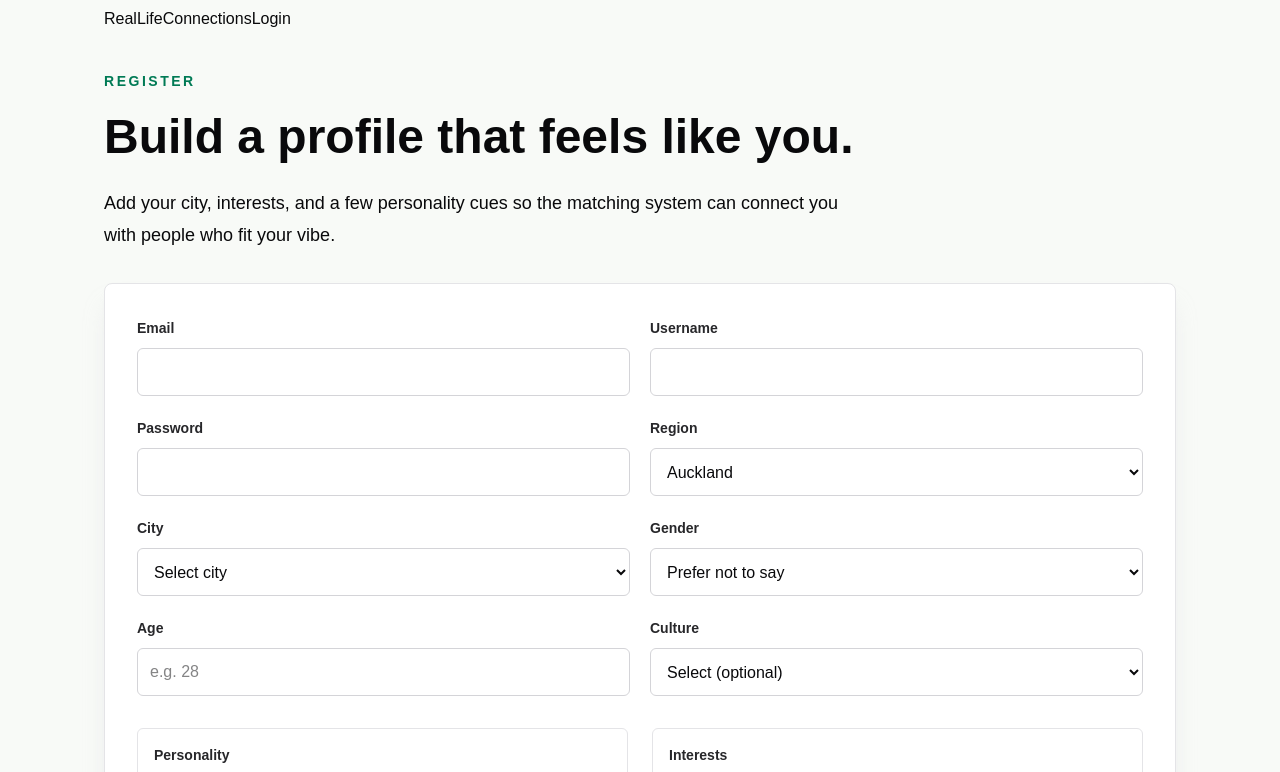
Test: Register integration › submits registration and redirects to profile
Type "sam@example.com" into the field labelled "Email" at (384,372), box [137,348,630,396]
Type "Sam" into the field labelled "Username" at (896,372), box [650,348,1143,396]
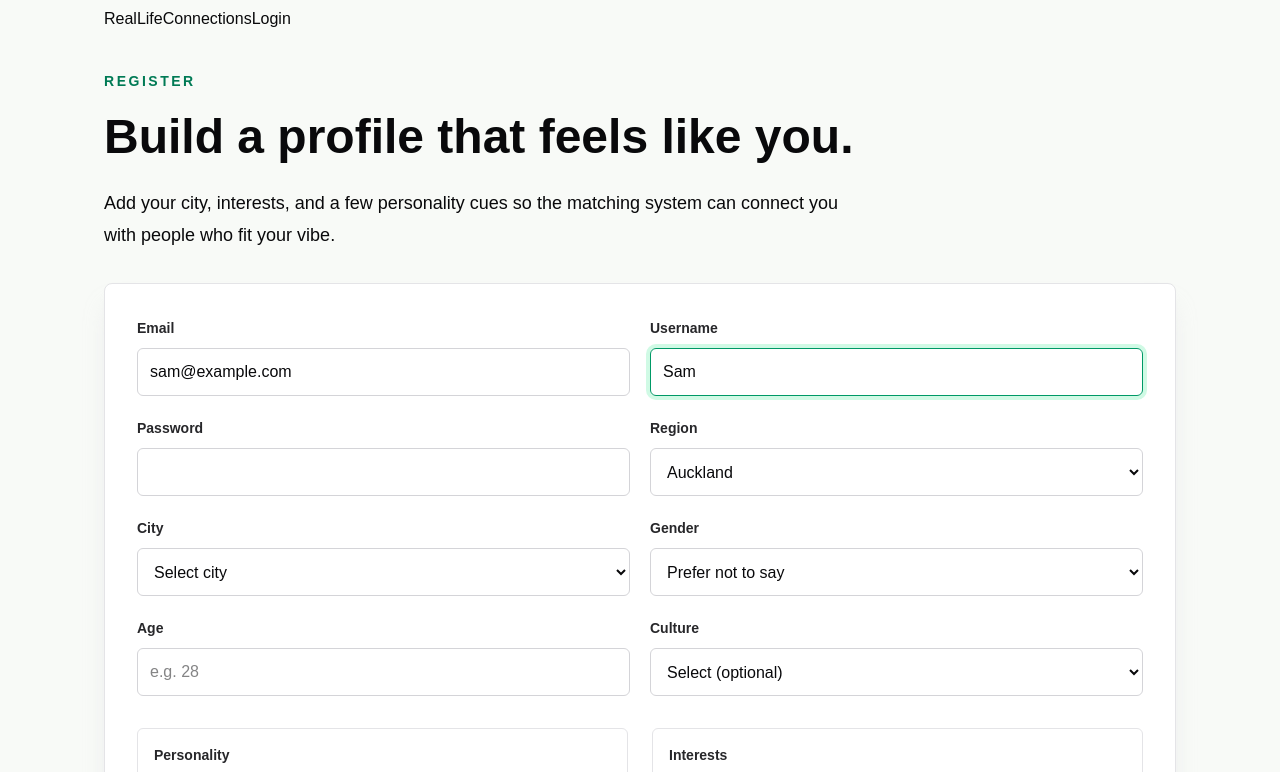
Type "Password123!" into the password field labelled "Password" at (384,472), box [137,448,630,496]
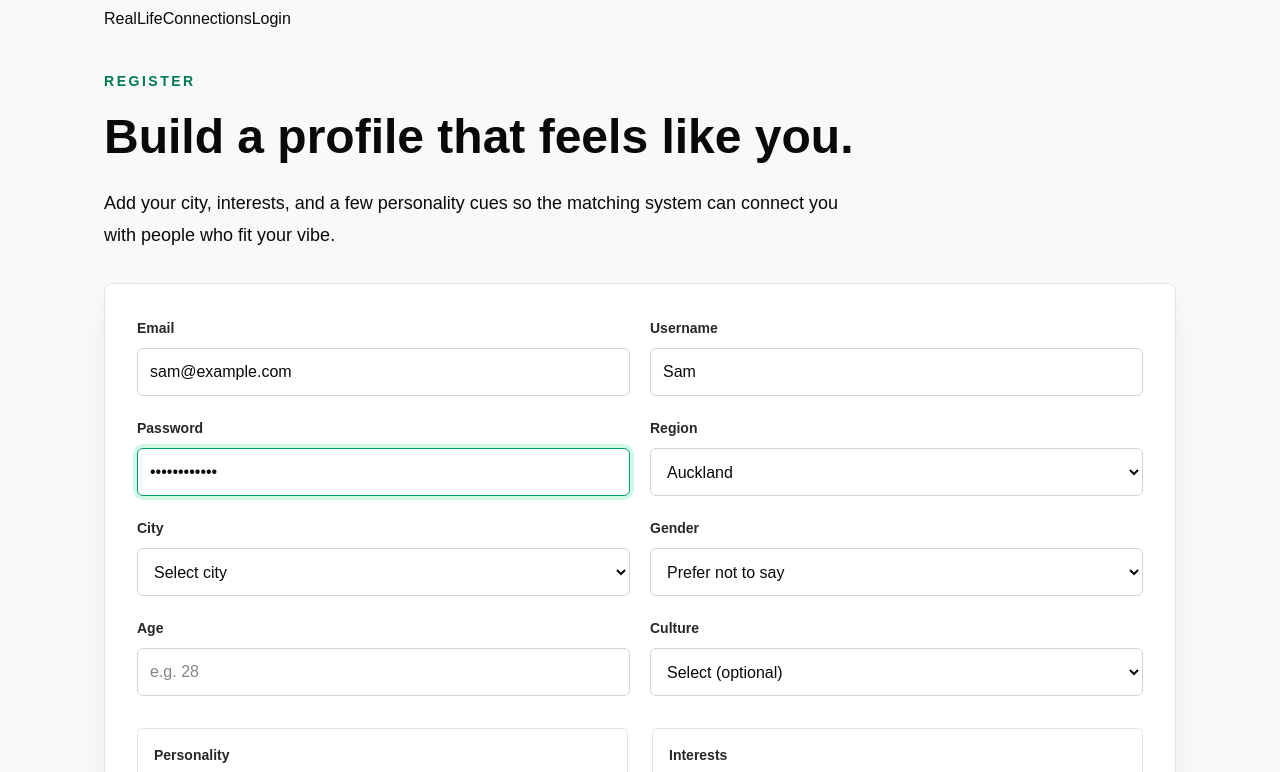
Select "Auckland" in the dropdown labelled "Region" at (896,472), box [650,448,1143,496]
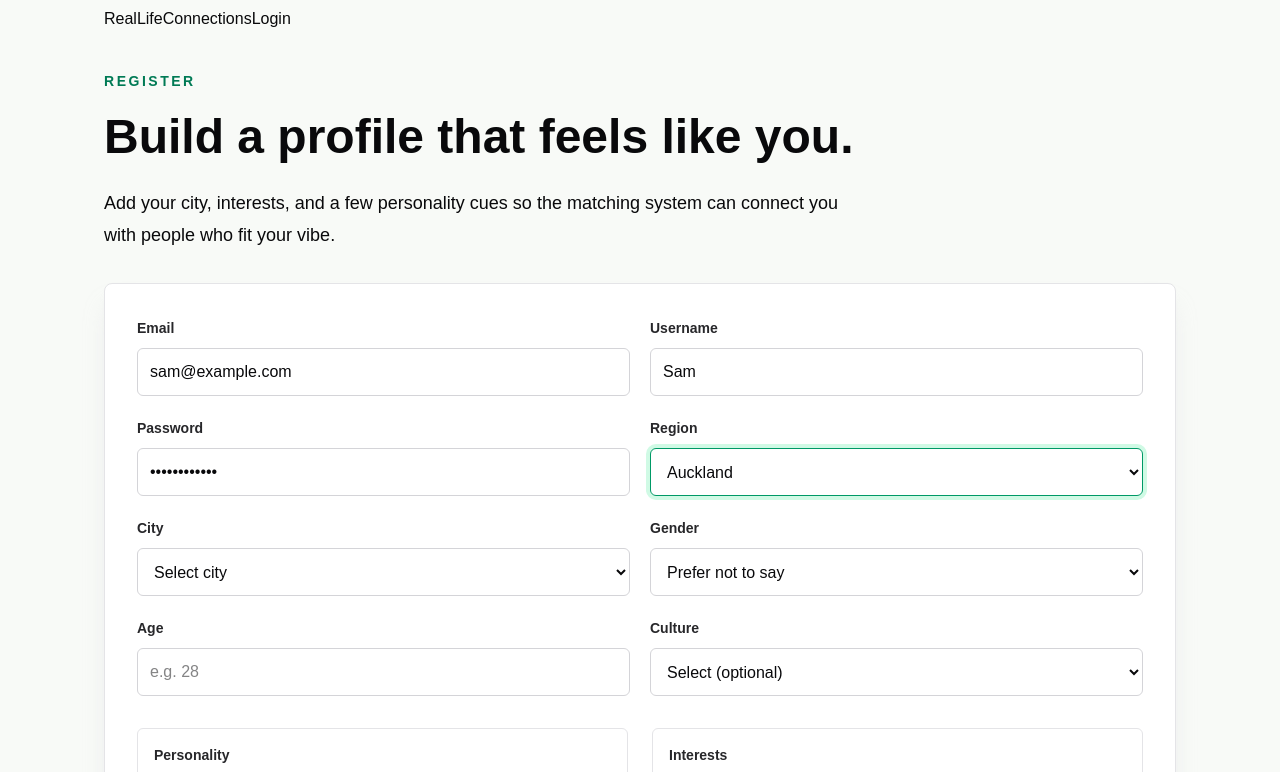
Select "Auckland City" in the dropdown labelled "City" at (384,572), box [137,548,630,596]
(page scrolled)
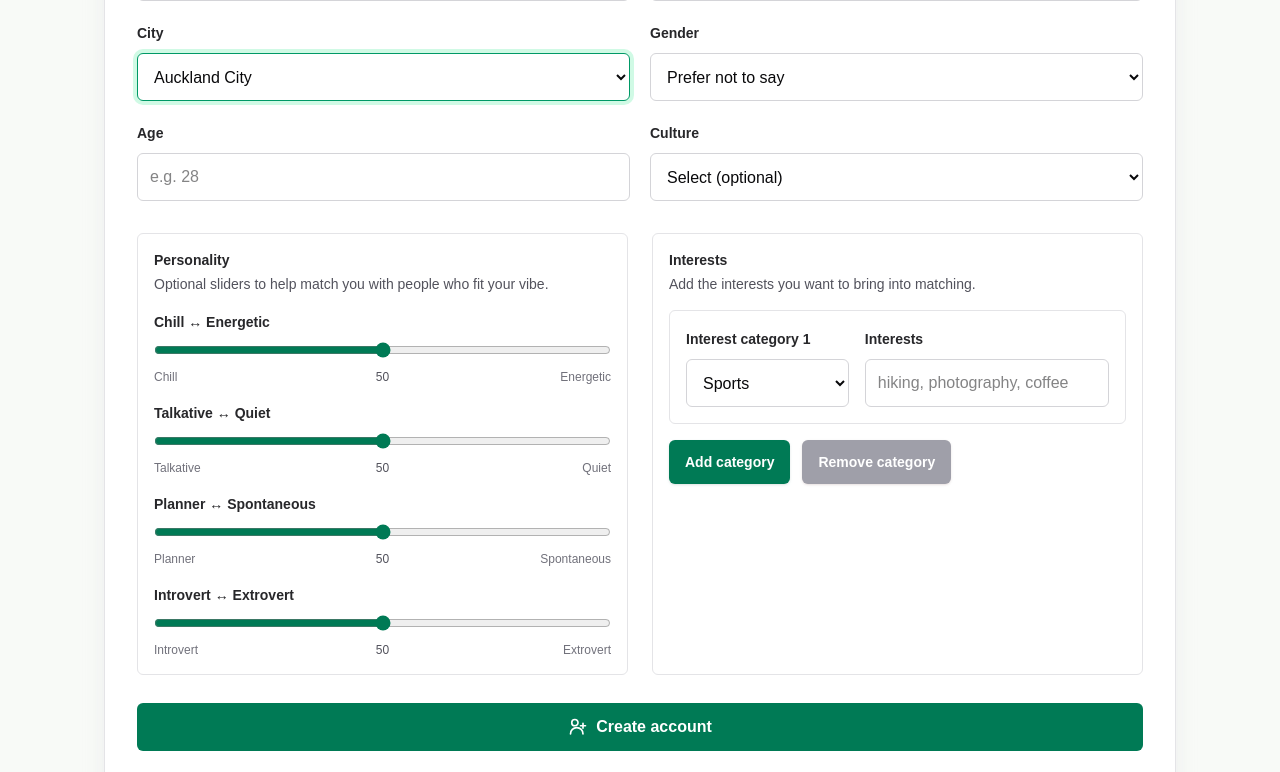
Type "hiking" into the field labelled "Interests" at (987,383), box [865,359,1109,407]
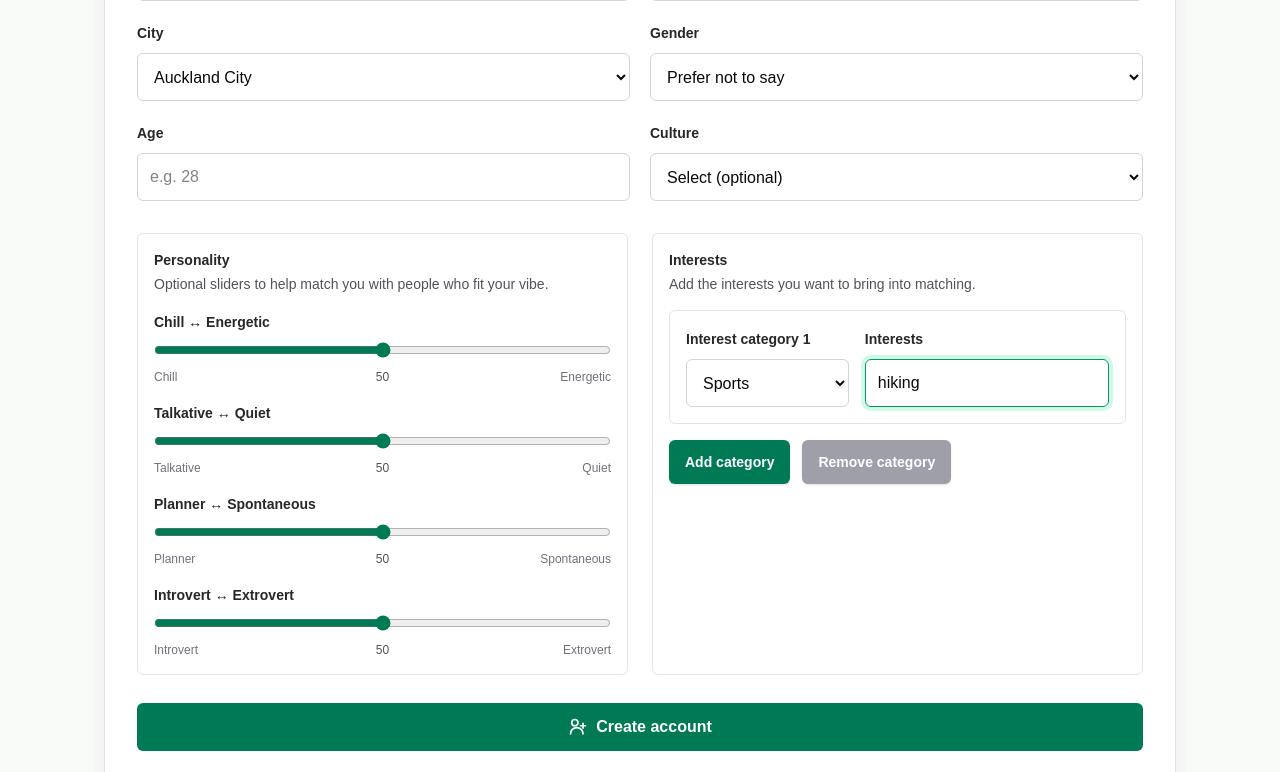
Click the button "Create account" at (640,727), box [137,703,1143,751]
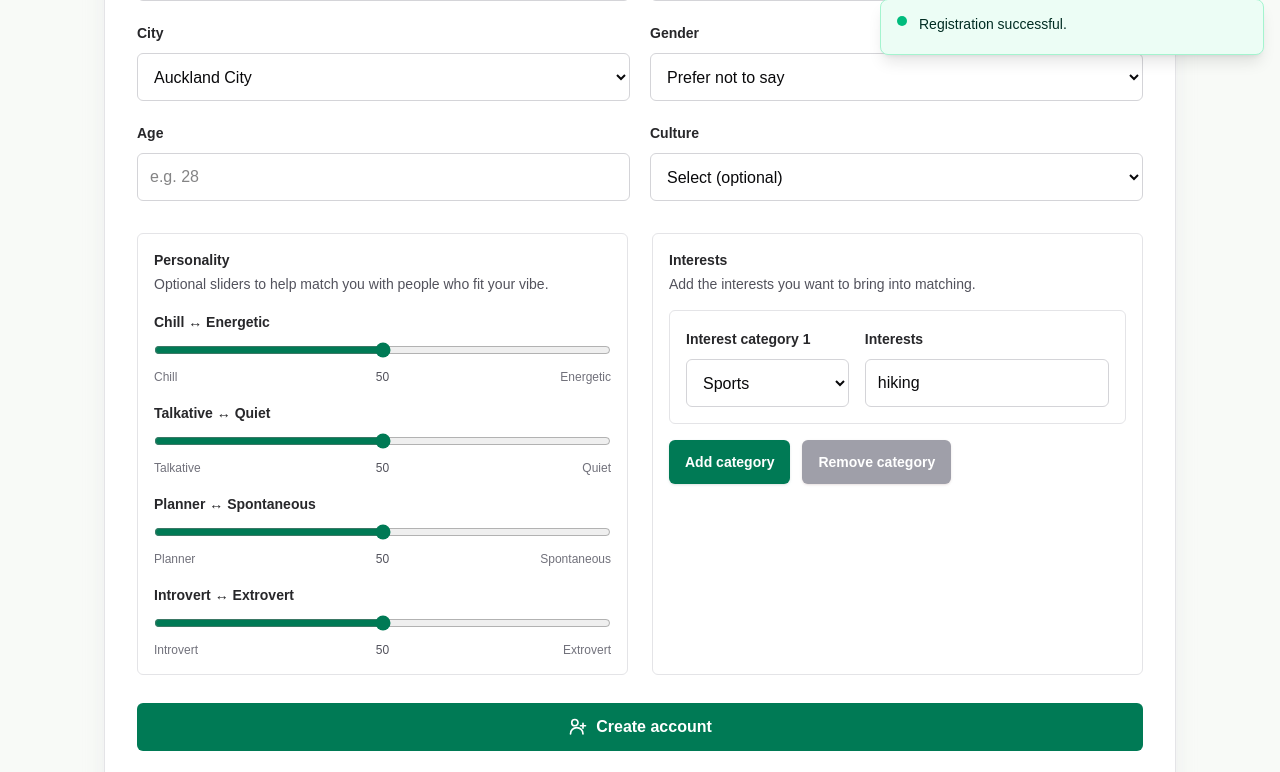
Expected: the text "Registration successful." is shown, [919,12,1067,36]
